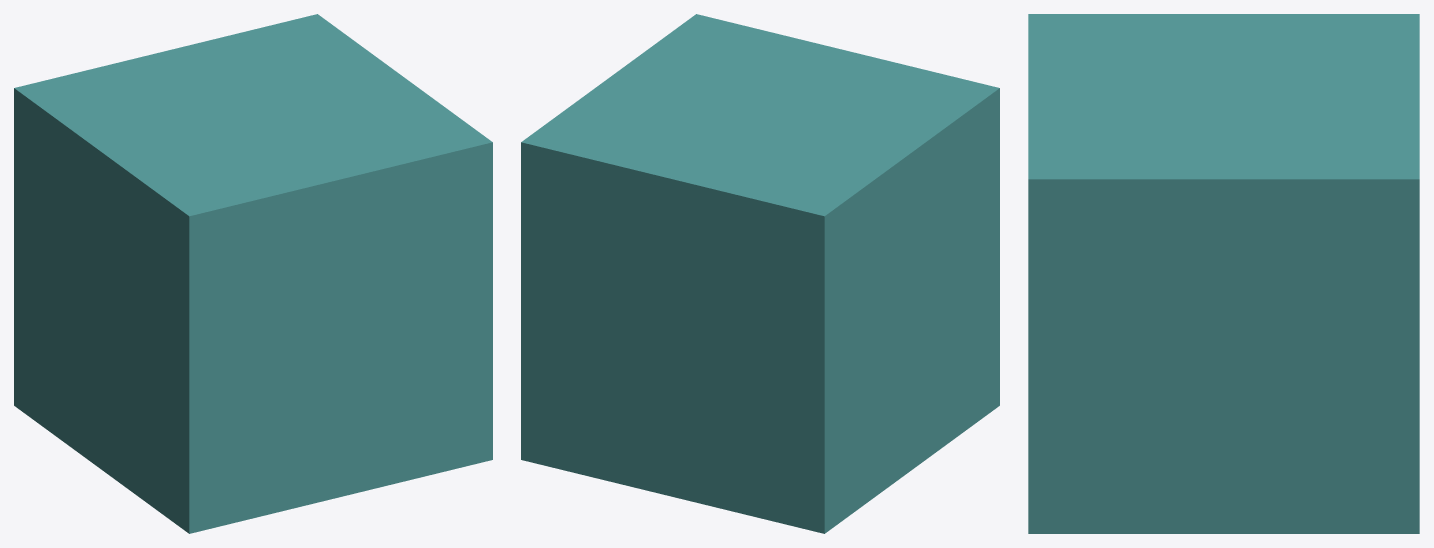
File: OneWay_Full.glb
3 renders of one model, left to right at view 1: azimuth 30°, elevation 25°; view 2: azimuth 150°, elevation 25°; view 3: azimuth 270°, elevation 25°, orthographic. The views are drawn at different scales.
Parts seen in each view (by area): view 1: OneWay_Full_body; view 2: OneWay_Full_body; view 3: OneWay_Full_body.
Boxes of the visible parts, <box> form: OneWay_Full_body: <box>14,14,492,533</box>; OneWay_Full_body: <box>521,14,999,533</box>; OneWay_Full_body: <box>1028,14,1419,533</box>.
Bounding box in the file's own units: 1 × 1 × 1.
